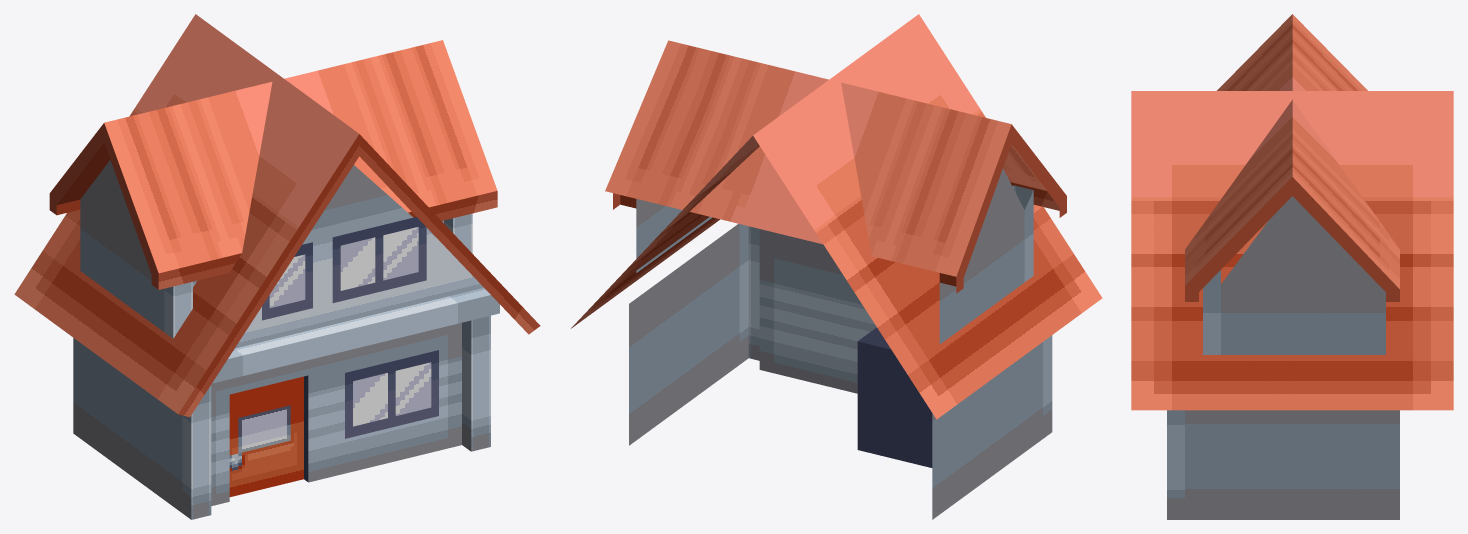
File: house_rival.glb
3 views of the same model, side by side, from view 1: azimuth 30°, elevation 25°; view 2: azimuth 150°, elevation 25°; view 3: azimuth 270°, elevation 25° (orthographic). The views are drawn at different scales.
Parts seen in each view (by area): view 1: house_rival; view 2: house_rival; view 3: house_rival.
Part boxes in pixels (left/top/right/bottom): house_rival: left=14, top=14, right=540, bottom=519; house_rival: left=571, top=14, right=1102, bottom=519; house_rival: left=1131, top=14, right=1453, bottom=519.
Bounding box in the file's own units: 5.75 × 5.5 × 4.5.
4 materials, 4 textured.
